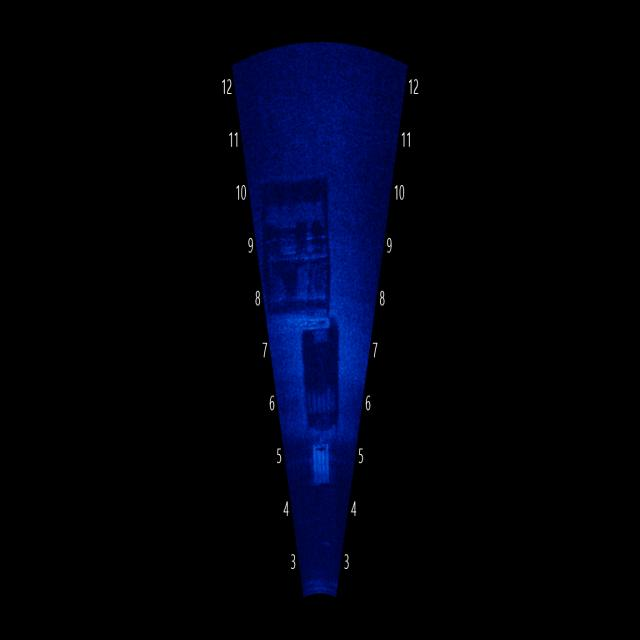square: (266, 175, 340, 324), (303, 421, 336, 539)
